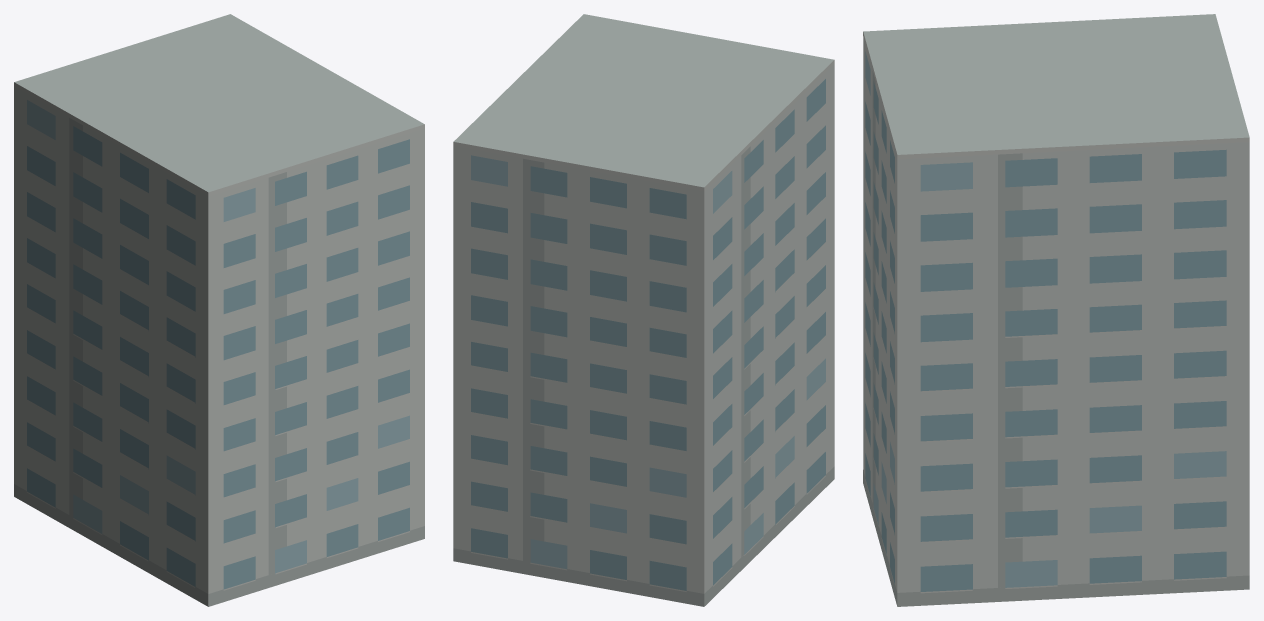
The model's file is residential-8a5800e6-934f-46fd-923f-afbf759f2f31.glb.
The picture shows the model from 3 angles, left to right: view 1: azimuth 30°, elevation 25°; view 2: azimuth 150°, elevation 25°; view 3: azimuth 270°, elevation 25°; orthographic projection. The views are drawn at different scales.
Parts seen in each view (by area): view 1: residential-8a5800e6-934f-46fd-923f-afbf759f2f31.tmp; view 2: residential-8a5800e6-934f-46fd-923f-afbf759f2f31.tmp; view 3: residential-8a5800e6-934f-46fd-923f-afbf759f2f31.tmp.
Part boxes in pixels (x1=…): residential-8a5800e6-934f-46fd-923f-afbf759f2f31.tmp: x1=14, y1=14, x2=424, y2=606; residential-8a5800e6-934f-46fd-923f-afbf759f2f31.tmp: x1=453, y1=14, x2=834, y2=606; residential-8a5800e6-934f-46fd-923f-afbf759f2f31.tmp: x1=863, y1=14, x2=1249, y2=606.
Size of the model in its own units: 16.06 by 24 by 18.61.
